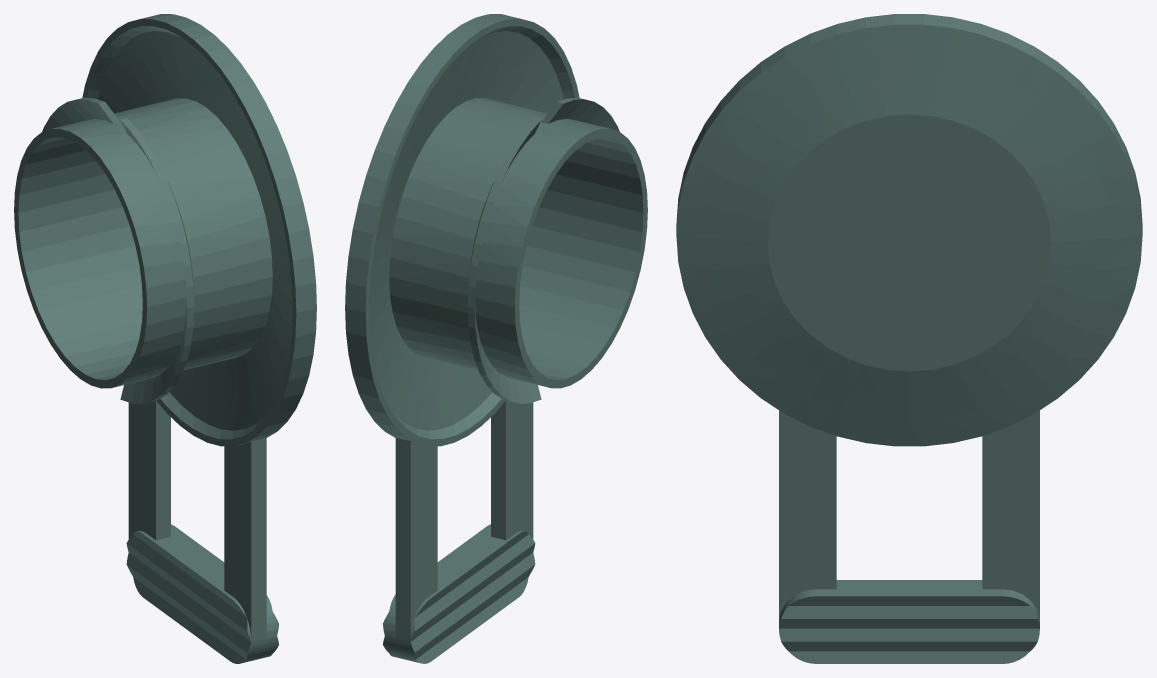
File: SRTSFL2PCR.glb
The picture shows the model from 3 angles, left to right: view 1: azimuth 30°, elevation 25°; view 2: azimuth 150°, elevation 25°; view 3: azimuth 270°, elevation 25°; orthographic projection. The views are drawn at different scales.
Parts seen in each view (by area): view 1: 20750169; view 2: 20750169; view 3: 20750169.
Part boxes in pixels (x1,y1,x2,y2): 20750169: (14,14,316,663); 20750169: (345,14,647,663); 20750169: (676,14,1142,663).
Size of the model in its own units: 0.2482 by 1 by 0.6671.
